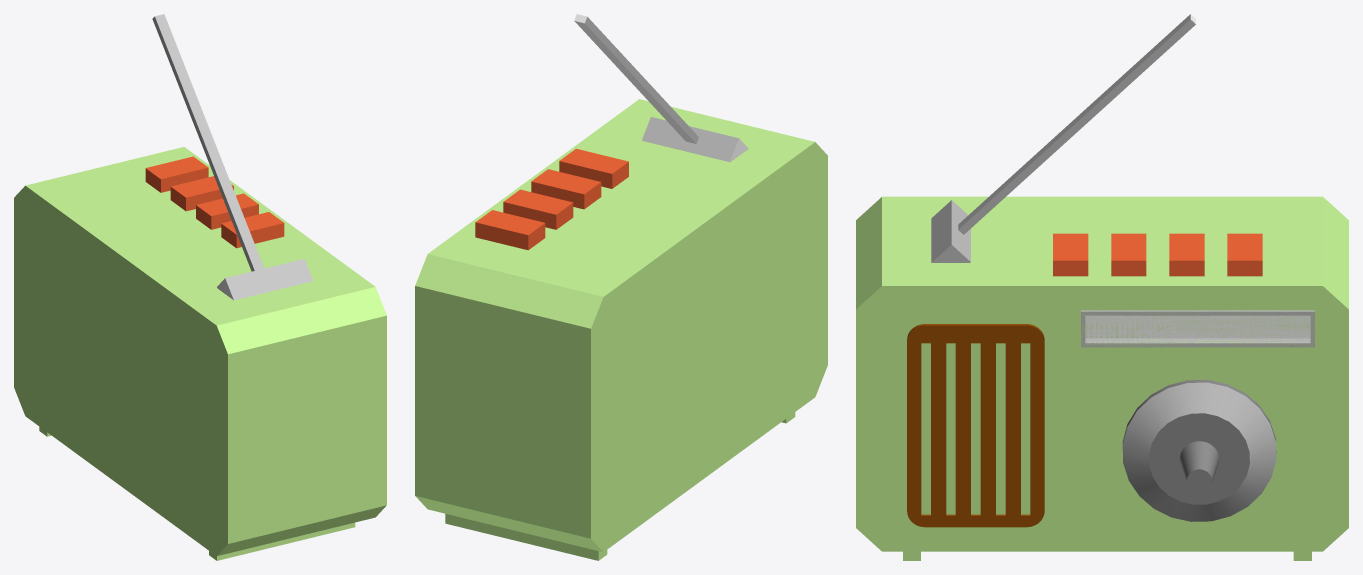
Rendered from radio.dae.
The picture shows the model from 3 angles, left to right: view 1: azimuth 30°, elevation 25°; view 2: azimuth 150°, elevation 25°; view 3: azimuth 270°, elevation 25°; orthographic projection. The views are drawn at different scales.
Parts seen in each view (by area): view 1: Component_1 (×2), SketchUp (×2), buttons (×4); view 2: Component_1 (×2), buttons (×4), SketchUp (×2); view 3: Component_1 (×4), SketchUp (×6), buttons (×4).
Part boxes in pixels (left/top/right/bottom): Component_1 (×2): left=14, top=147, right=386, bottom=560; SketchUp (×2): left=152, top=14, right=313, bottom=300; buttons (×4): left=145, top=156, right=284, bottom=248; Component_1 (×2): left=415, top=99, right=827, bottom=560; buttons (×4): left=475, top=148, right=628, bottom=250; SketchUp (×2): left=574, top=17, right=738, bottom=161; Component_1 (×4): left=856, top=196, right=1348, bottom=551; SketchUp (×6): left=907, top=14, right=1276, bottom=527; buttons (×4): left=1053, top=233, right=1262, bottom=276.
Bounding box in the file's own units: 13.55 × 23.38 × 26.4.
